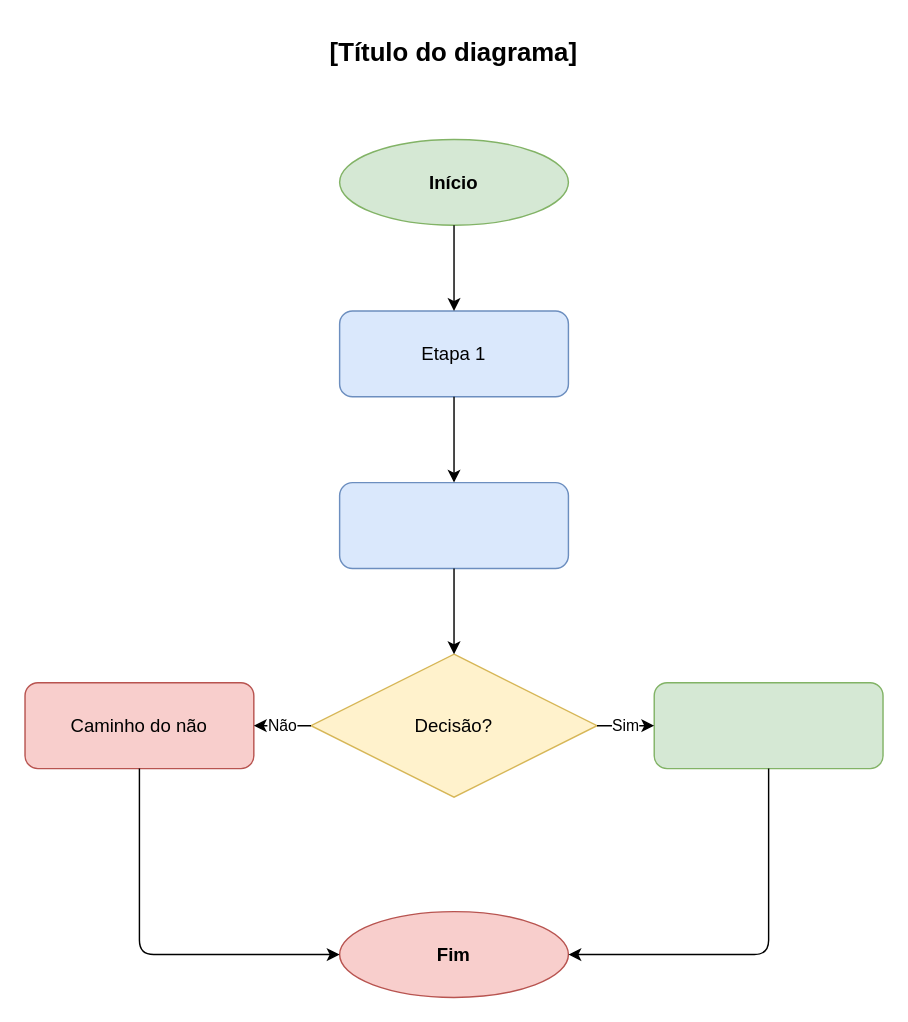
Image size: 908x1022. Some labels were removed from this diagram. Here are the shapes that lost their labels. From the top down, the centre of each, then its label:
At (x=453, y=524): "Etapa 2".
At (x=768, y=725): "Caminho do sim".
